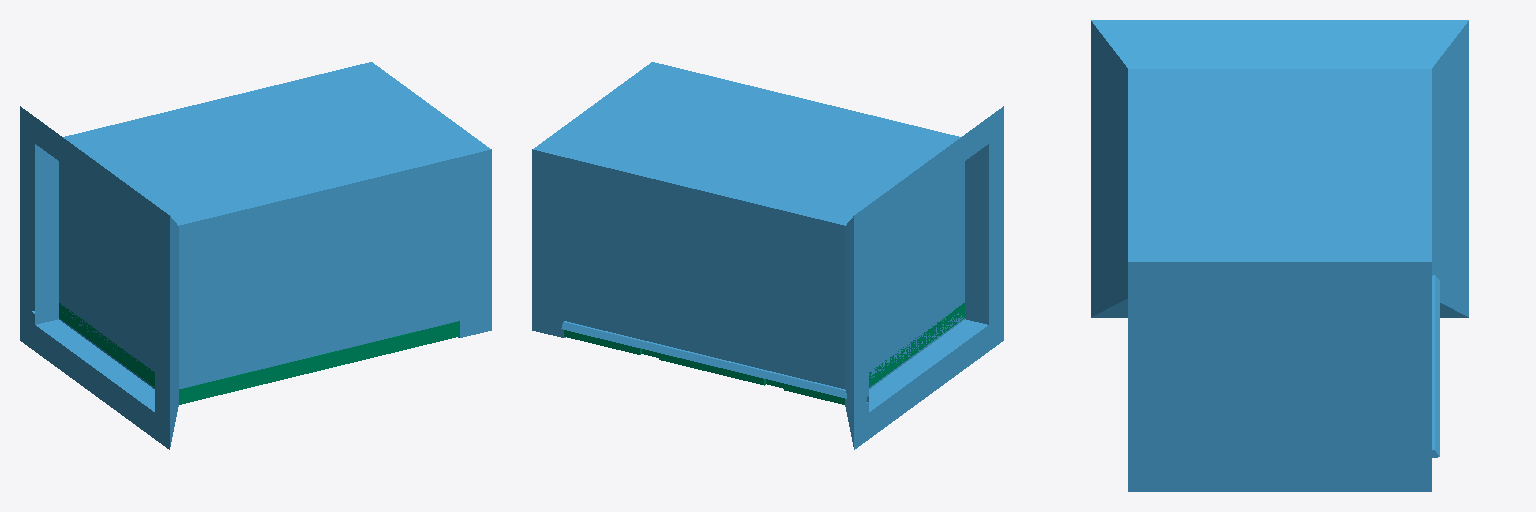
URDF robot description (right-pull-door):
<?xml version="1.0" ?>
<robot name="right-pull-door">
	<link name="base"/>
	<link name="link_0">
		<visual name="out-frame">
			<origin xyz="0 0 0"/>
			<geometry>
				<mesh filename="texture_dae/frame.dae" scale="0.6 0.6 0.6"/>
			</geometry>
		</visual>
		<collision>
			<origin xyz="0 0 0"/>
			<geometry>
				<mesh filename="texture_dae/frame.dae" scale="0.6 0.6 0.6"/>
			</geometry>
		</collision>
	</link>
	<joint name="joint_0" type="fixed">
		<origin rpy="1.570796326794897 0 -1.570796326794897" xyz="0 0 0"/>
		<child link="link_0"/>
		<parent link="base"/>
	</joint>
	<link name="link_1">
		<visual name="surf-board">
			<origin xyz="0.2239523598233128 0 0"/>
			<geometry>
				<mesh filename="texture_dae/board.dae" scale="0.6 0.6 0.6"/>
			</geometry>
		</visual>
		<collision>
			<origin xyz="0.2239523598233128 0 0"/>
			<geometry>
				<mesh filename="texture_dae/board.dae" scale="0.6 0.6 0.6"/>
			</geometry>
		</collision>
	</link>
	<joint name="joint_1" type="revolute">
		<origin xyz="-0.2239523598233128 0 0"/>
		<axis xyz="0 -1 0"/>
		<child link="link_1"/>
		<parent link="link_0"/>
		<limit lower="0" upper="1.5079644737231006"/>
	</joint>
	<link name="link_2">
		<visual name="handle">
			<origin xyz="0 0 0"/>
			<geometry>
				<mesh filename="texture_dae/9961216.dae" scale="1 1 1"/>
			</geometry>
		</visual>
		<collision>
			<origin xyz="0 0 0"/>
			<geometry>
				<mesh filename="texture_dae/9961216.dae" scale="1 1 1"/>
			</geometry>
		</collision>
	</link>
	<joint name="joint_2" type="revolute">
		<origin xyz="0.2239523598233128 0 0.0175438177401573"/>
		<child link="link_2"/>
		<parent link="link_1"/>
		<axis xyz="0 0 1"/>
		<limit lower="0" upper="1.5079644737231006"/>
	</joint>
</robot>

--- What the picture shows (computed from the rendered views, not written in the file) ---
Views: 3 orthographic renders of the robot side by side, from view 1: azimuth 30°, elevation 25°; view 2: azimuth 150°, elevation 25°; view 3: azimuth 270°, elevation 25°.
Model right-pull-door with 4 links and 3 joints (2 revolute, 1 fixed), rooted at base, posed every joint at zero.
Visible links, largest first — view 1: link_0, link_1; view 2: link_0, link_1; view 3: link_0.
Link boxes in pixels (x1,y1,x2,y2): link_0: (20, 62, 491, 449); link_1: (59, 303, 459, 404); link_0: (532, 62, 1003, 449); link_1: (564, 303, 964, 404); link_0: (1091, 20, 1468, 491).
Bounding box of the posed robot: 0.8236 × 0.6331 × 0.5488 m (x, y, z).
3 mesh visuals loaded from 3 distinct referenced files (3 Collada DAE).
